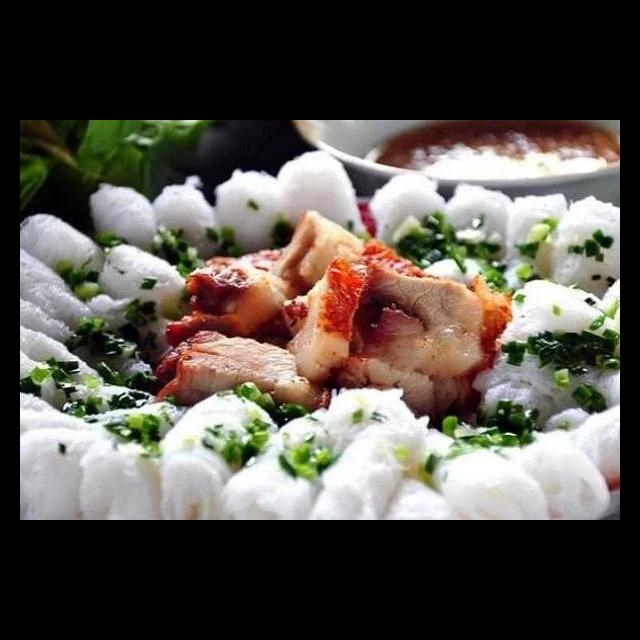banh hoi: (467, 274, 620, 433), (21, 394, 197, 520), (152, 385, 287, 520), (447, 414, 614, 520), (361, 165, 485, 296), (216, 405, 353, 520), (412, 420, 556, 520), (273, 379, 424, 469), (317, 407, 436, 520), (270, 148, 376, 257), (493, 186, 572, 314), (438, 178, 517, 304), (533, 191, 620, 304), (208, 162, 303, 258), (92, 239, 199, 324), (82, 176, 173, 267), (21, 240, 105, 338), (142, 172, 228, 267), (21, 207, 111, 296), (21, 317, 112, 392), (21, 293, 93, 348)
banh hoi heo quay: (34, 160, 620, 519)
thit heo quay: (345, 254, 514, 387), (160, 232, 311, 354), (270, 206, 442, 313), (149, 324, 336, 416), (274, 252, 373, 390)
